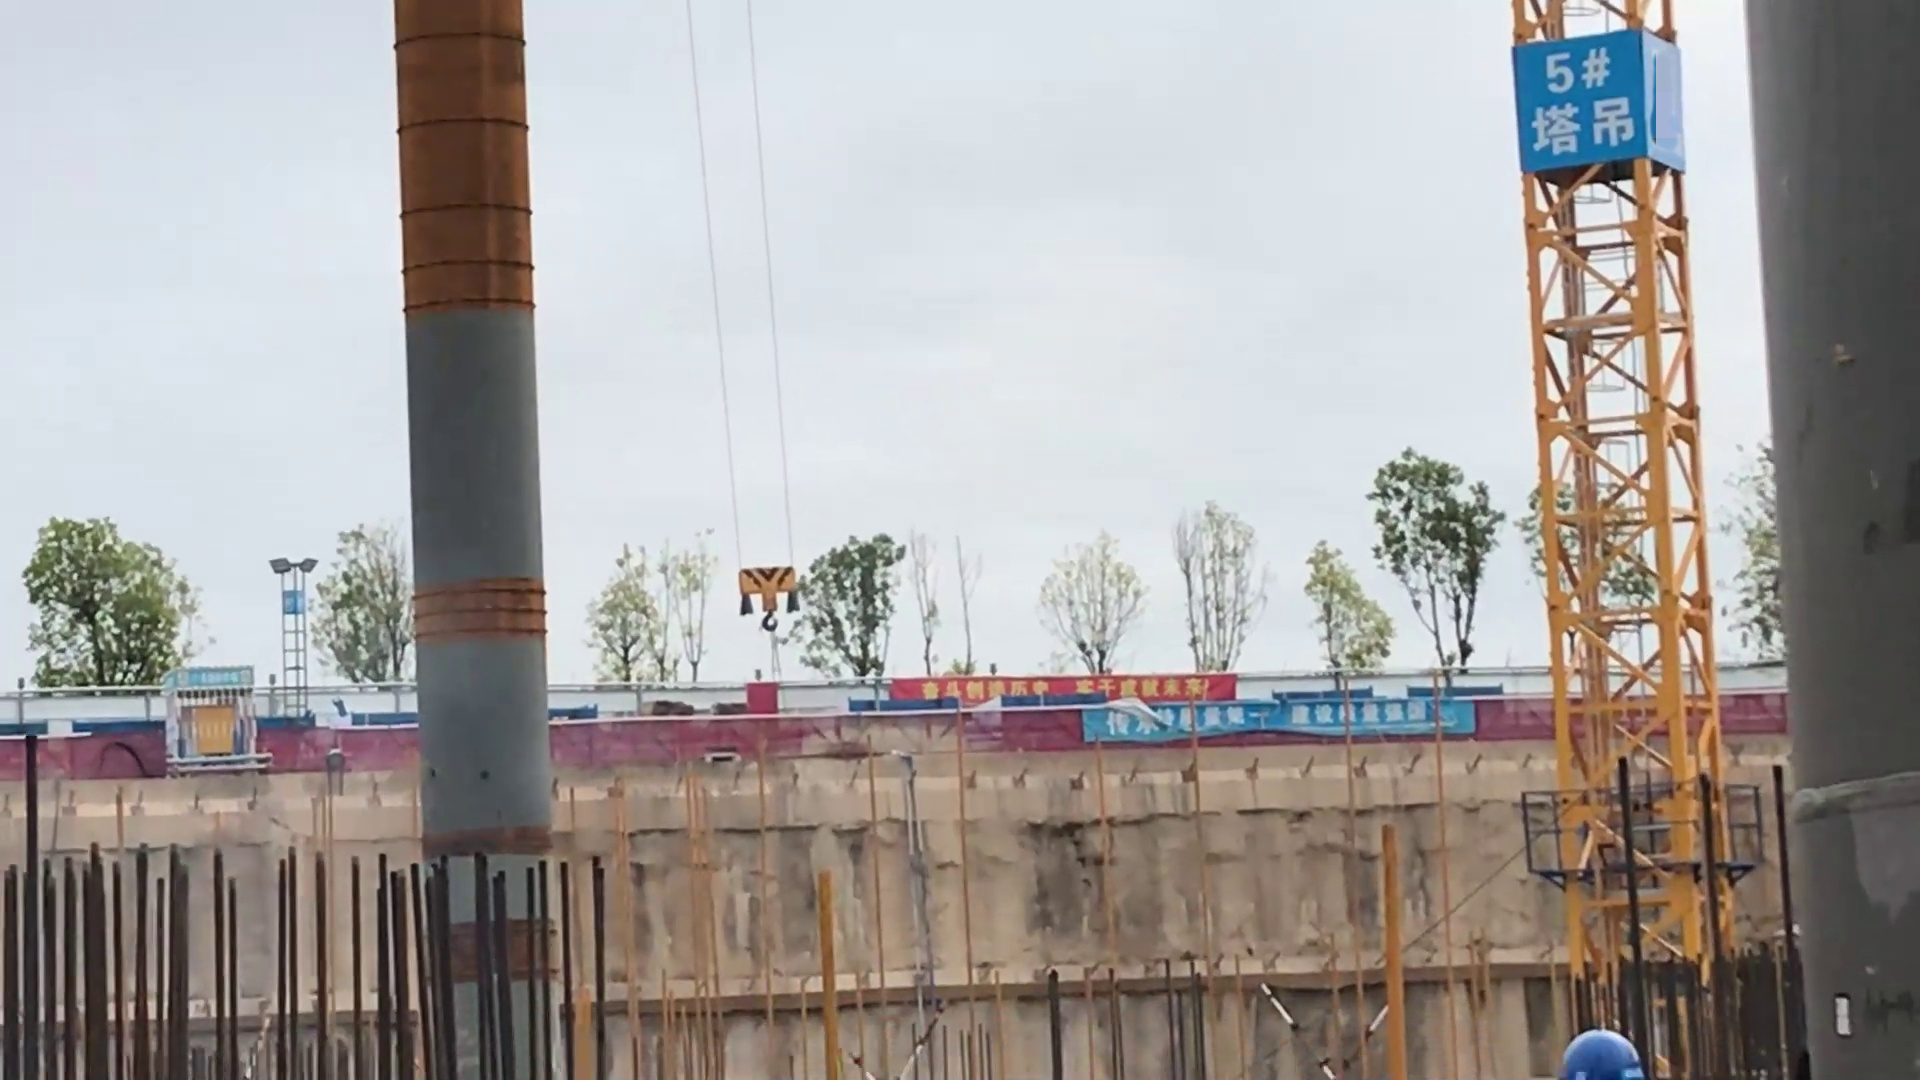ebox: (178, 703, 237, 754)
helmet: (1556, 1023, 1644, 1080)
hook: (732, 563, 804, 636)
slogan: (1084, 699, 1474, 741), (891, 676, 1236, 705)
